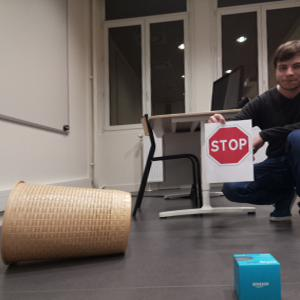stop: (208, 125, 251, 166)
